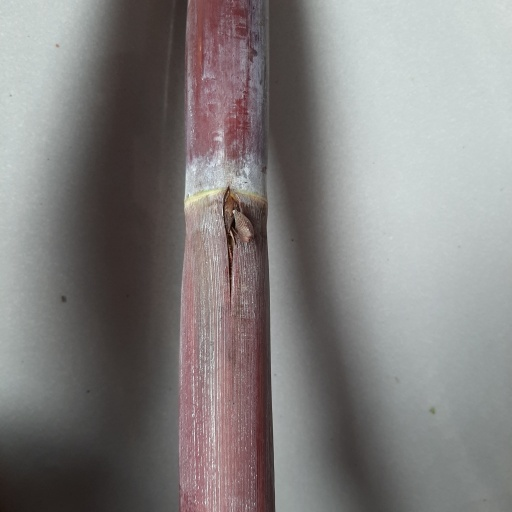Damage_Bud: (222, 189, 250, 266)
